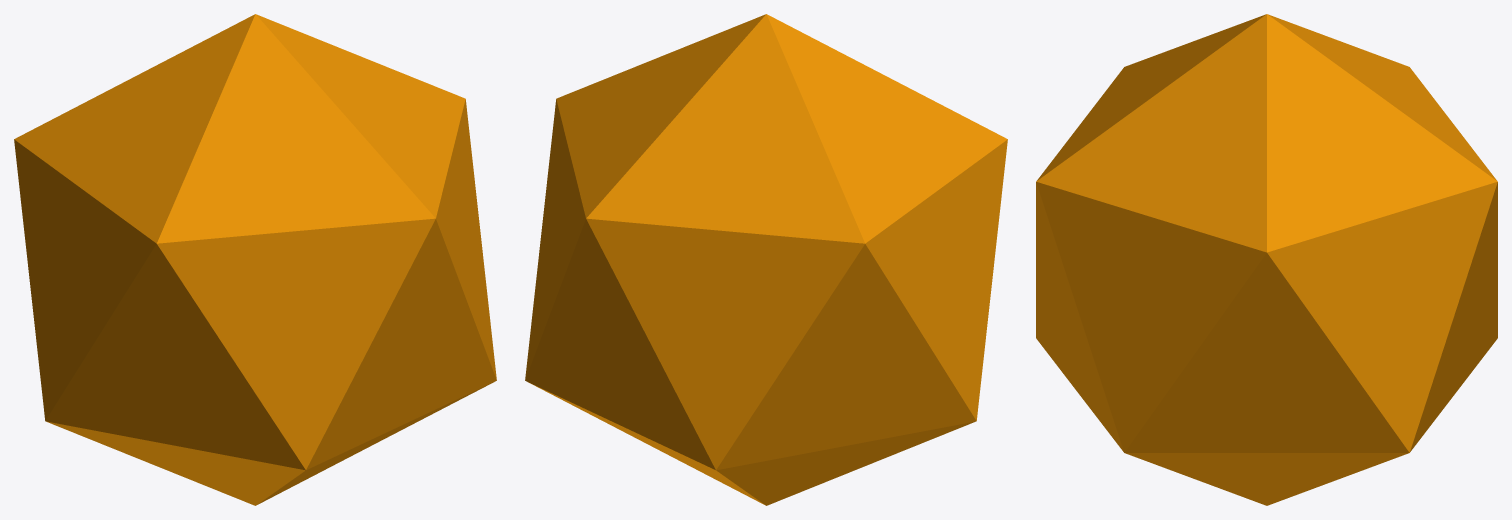
The model's file is asset.gltf.
3 views of the same model, side by side, from view 1: azimuth 30°, elevation 25°; view 2: azimuth 150°, elevation 25°; view 3: azimuth 270°, elevation 25° (orthographic).
Visible parts, largest first — view 1: Icosphere; view 2: Icosphere; view 3: Icosphere.
Boxes of the visible parts, <box> form: Icosphere: <box>14,14,496,505</box>; Icosphere: <box>525,14,1007,505</box>; Icosphere: <box>1036,14,1497,505</box>.
Size of the model in its own units: 1.79 by 2 by 1.7.
